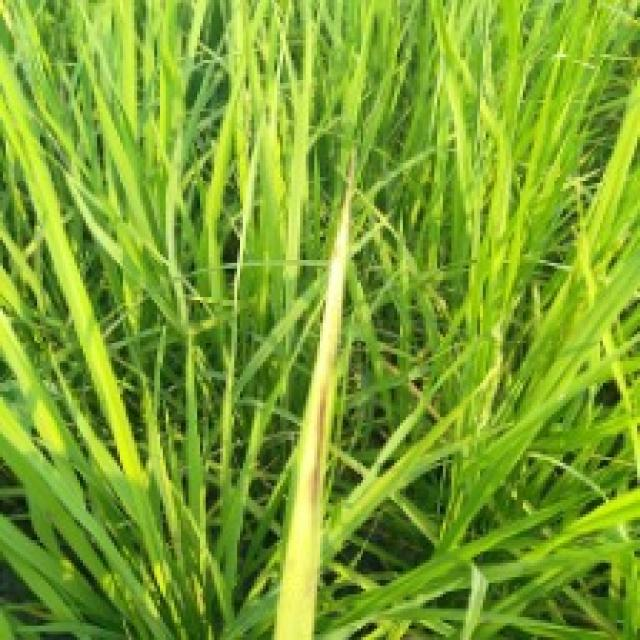Rice___Bacterial_Leaf_Blight: (276, 171, 353, 637)
